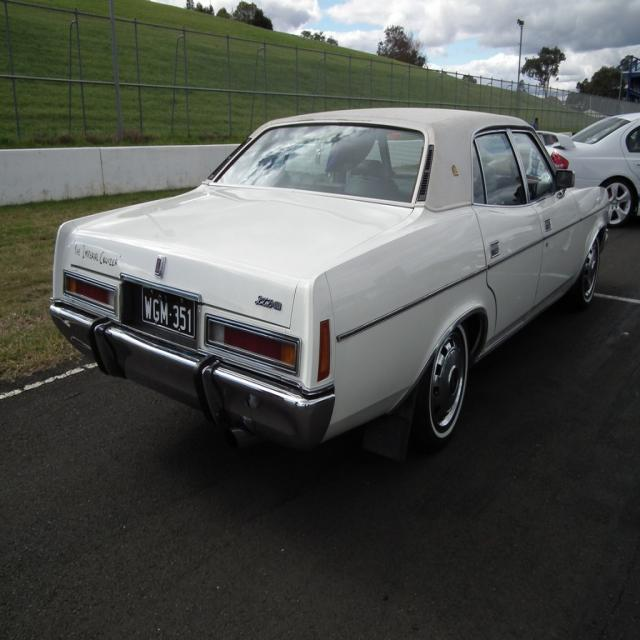car: (48, 107, 608, 451)
